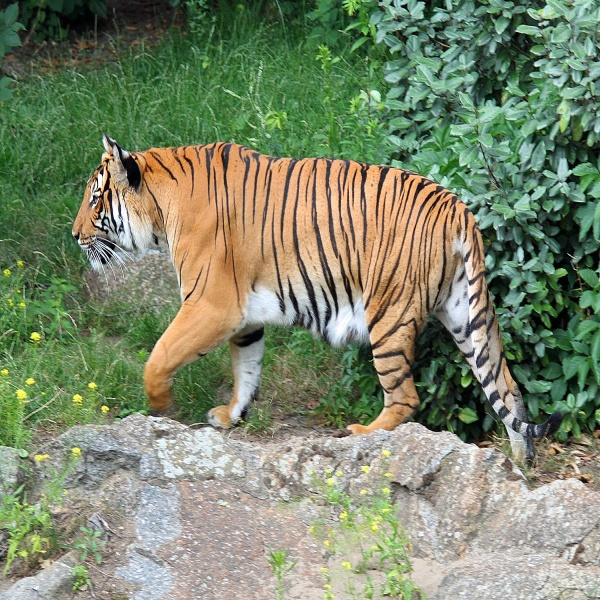Tiger: (68, 132, 563, 472)
